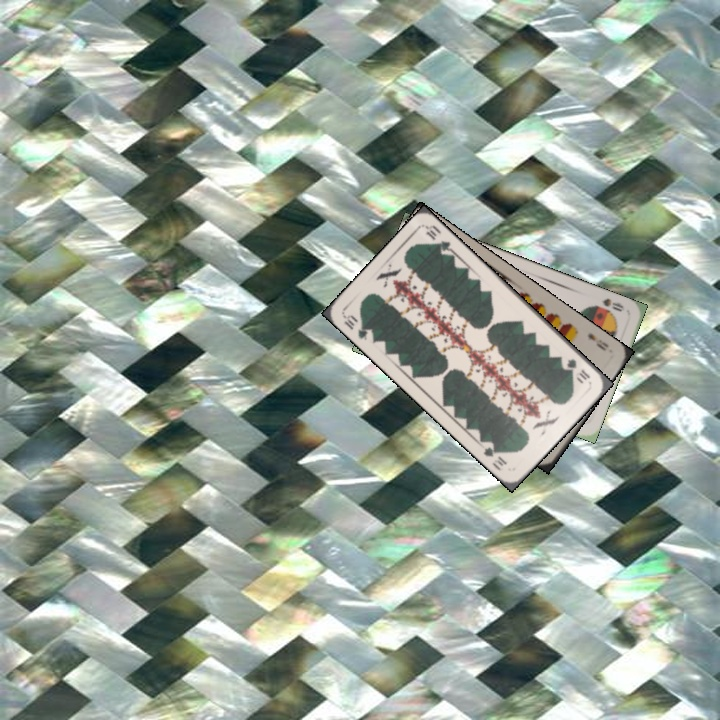E9: (583, 329, 611, 354)
G10: (340, 311, 376, 343), (562, 354, 593, 383)
SO: (598, 294, 627, 314)
